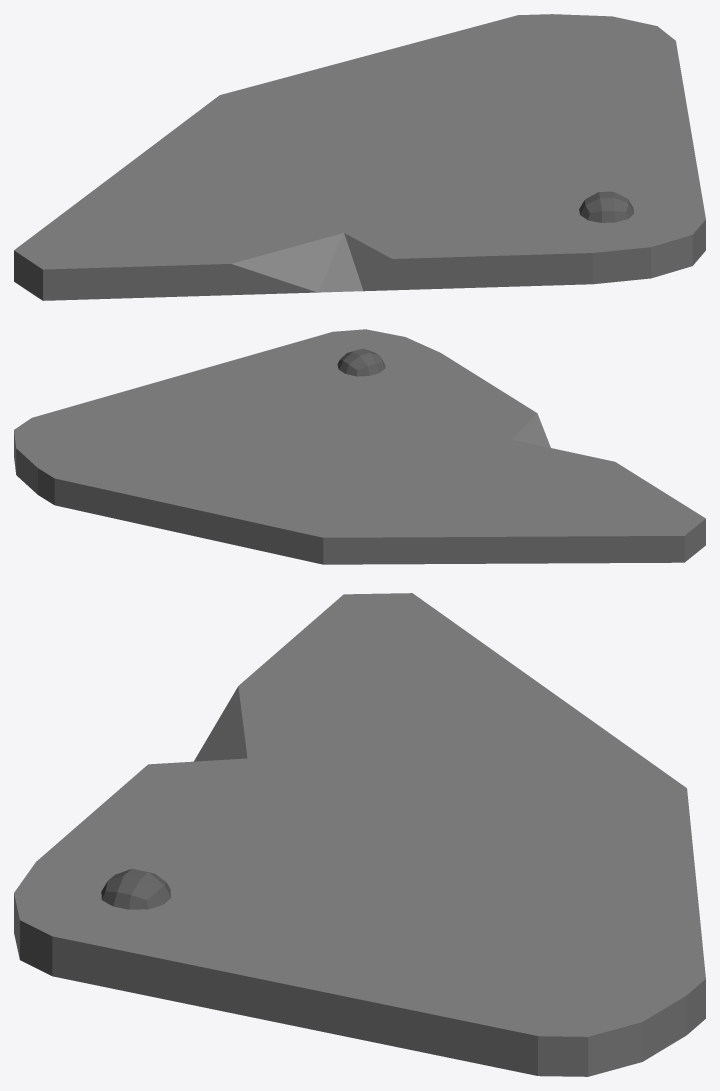
File: Metallic part 5.fbx
3 renders of one model, top to bottom at view 1: azimuth 30°, elevation 25°; view 2: azimuth 150°, elevation 25°; view 3: azimuth 270°, elevation 25°, orthographic. The views are drawn at different scales.
Parts seen in each view (by area): view 1: Metallic part 5; view 2: Metallic part 5; view 3: Metallic part 5.
Part boxes in pixels (x1,y1,x2,y2): Metallic part 5: [14, 14, 705, 300]; Metallic part 5: [14, 329, 705, 564]; Metallic part 5: [14, 593, 705, 1076].
Size of the model in its own units: 12.85 by 0.8244 by 8.47.
